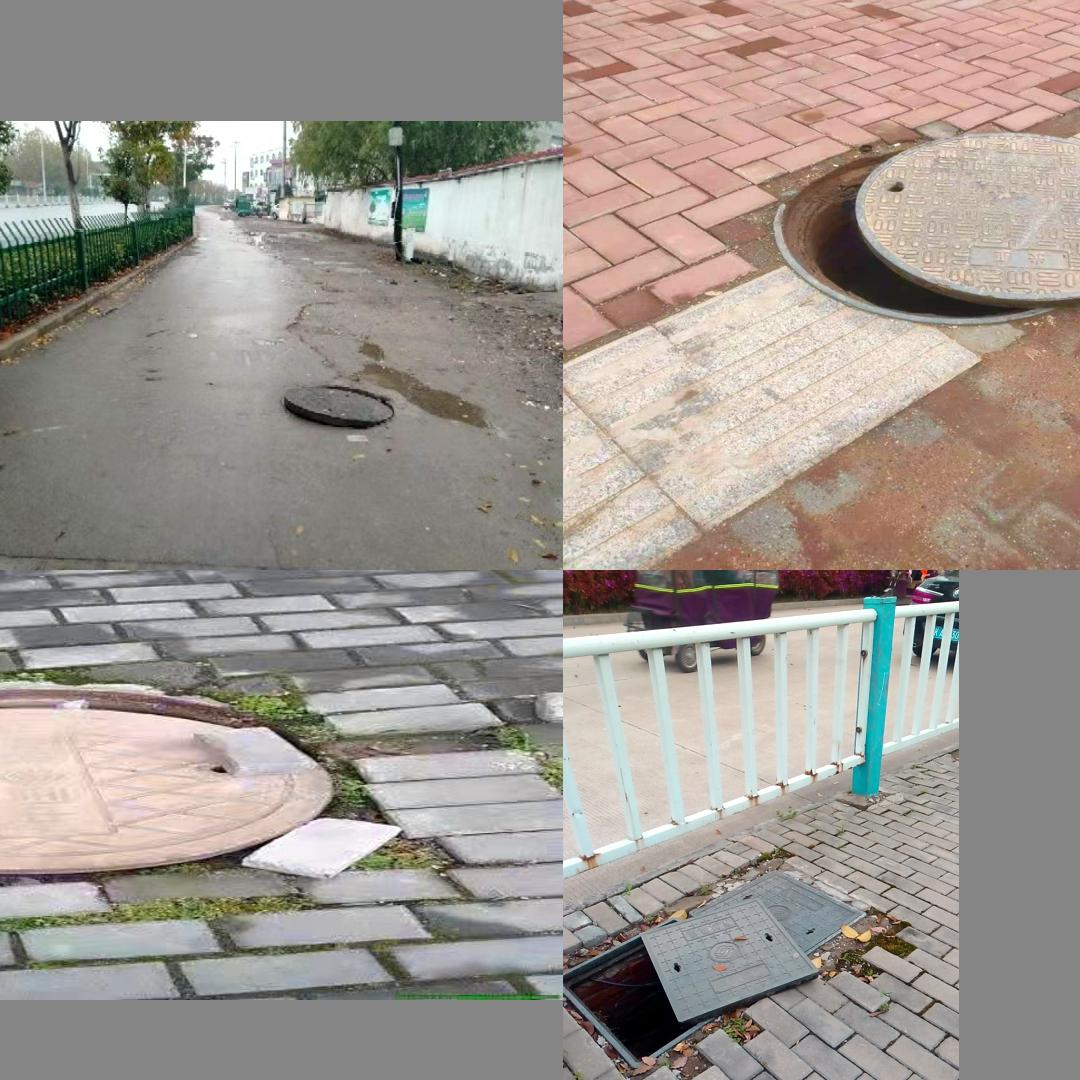uncovered: (0, 680, 336, 875), (769, 131, 1080, 326), (564, 870, 865, 1066), (281, 383, 393, 431)
